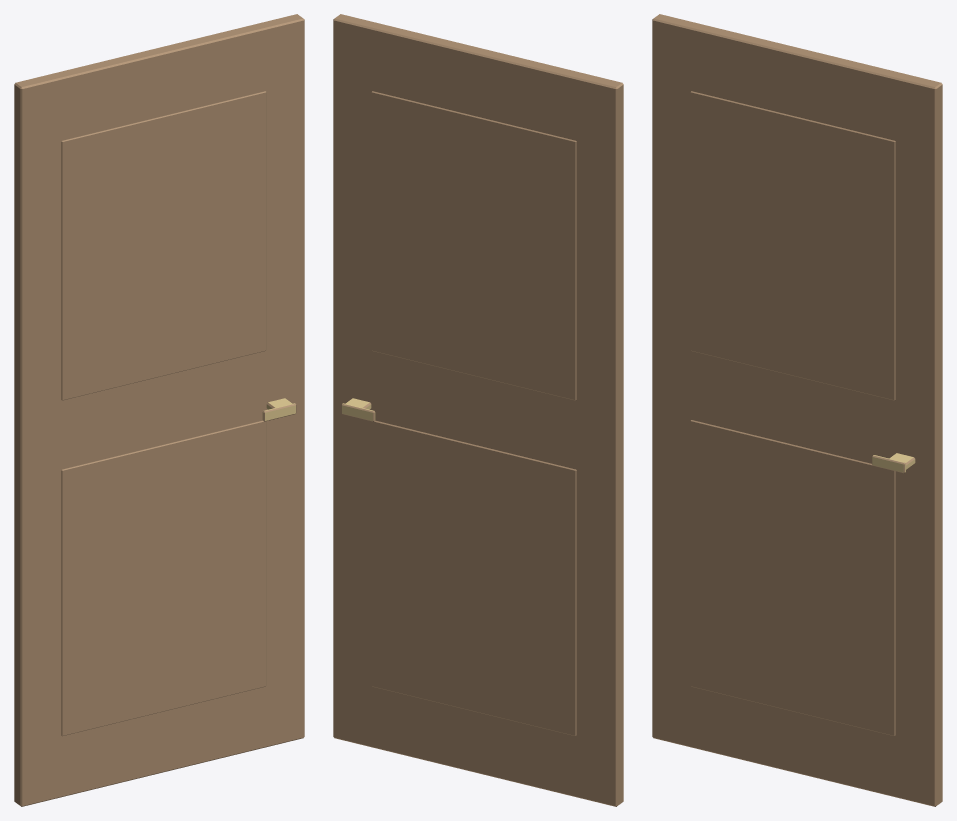
Rendered from puerta_hoja.glb.
3 views of the same model, side by side, from view 1: azimuth 30°, elevation 25°; view 2: azimuth 150°, elevation 25°; view 3: azimuth 330°, elevation 25° (orthographic).
Parts seen in each view (by area): view 1: puerta_hoja; view 2: puerta_hoja; view 3: puerta_hoja.
Boxes of the visible parts, x1,y1,x2,y2 form: puerta_hoja: (14, 14, 304, 806); puerta_hoja: (333, 14, 623, 806); puerta_hoja: (652, 14, 942, 806).
Size of the model in its own units: 0.86 by 2.08 by 0.16.
